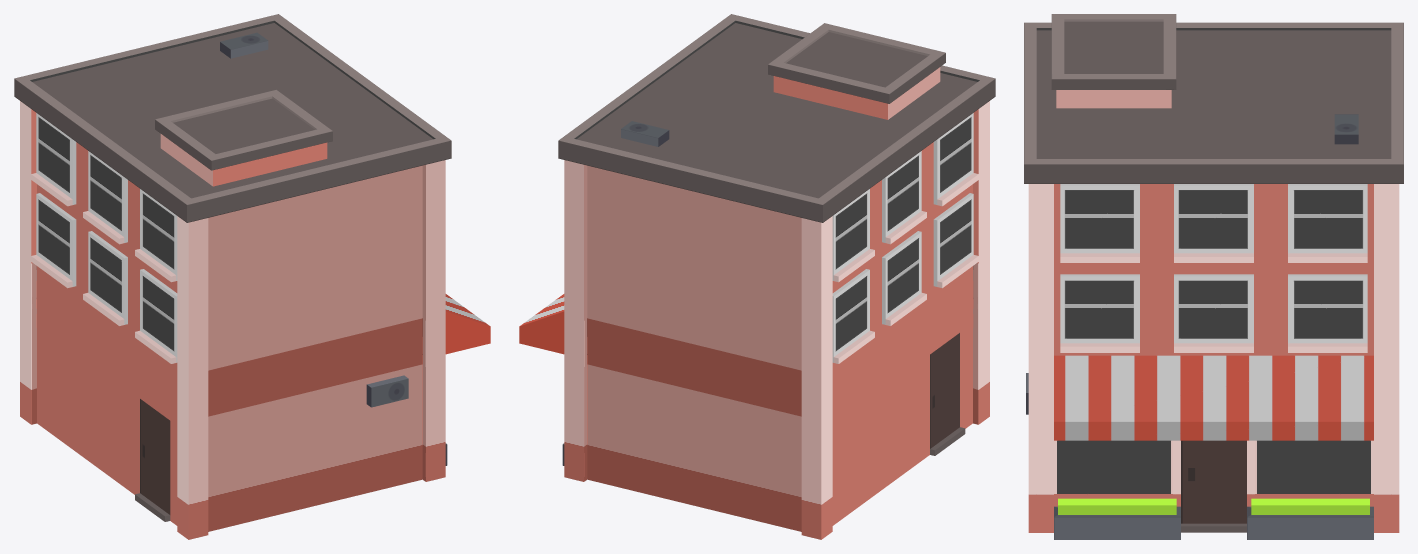
The model's file is shop_house_2.glb.
The picture shows the model from 3 angles, left to right: view 1: azimuth 30°, elevation 25°; view 2: azimuth 150°, elevation 25°; view 3: azimuth 270°, elevation 25°; orthographic projection. The views are drawn at different scales.
Parts seen in each view (by area): view 1: shop_classic_mesh; view 2: shop_classic_mesh; view 3: shop_classic_mesh.
Part boxes in pixels (x1=…): shop_classic_mesh: x1=14, y1=14, x2=490, y2=539; shop_classic_mesh: x1=519, y1=14, x2=995, y2=539; shop_classic_mesh: x1=1024, y1=14, x2=1403, y2=539.
Bounding box in the file's own units: 0.1232 × 0.1348 × 0.1163.
1 material, 1 textured.
